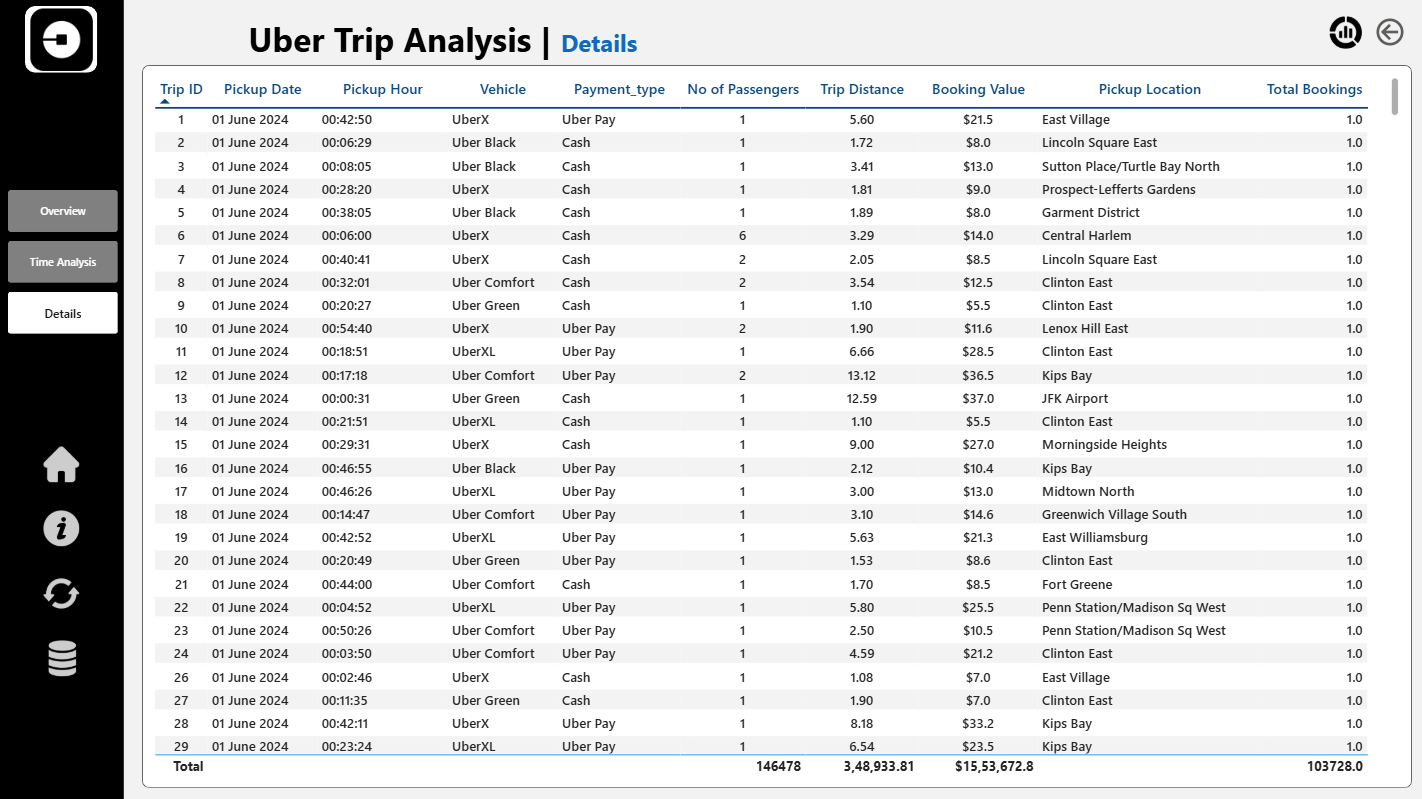

The page's visual inventory and layout, read from the dashboard file:
{"tool":"powerbi","page":{"name":"Details","canvas":[1600,900],"ordinal":2},"visuals":[{"type":"shape","box":[161.2,73.9,1421.6,809.3],"z":0},{"type":"shape","box":[0,0,141.4,899.6],"z":1000},{"type":"textbox","box":[275.4,14.6,632.5,73.9],"z":2000},{"type":"tableEx","fields":{"Values":["Trip Details.Trip ID","Trip Details.Pickup Date","Trip Details.Pickup Hour (HH MM SS)","Trip Details.Vehicle","Trip Details.Payment_type","Sum(Trip Details.passenger_count)","Calculation Table.Total Trip Distance Numeric","Calculation Table.Total Booking Value","Location Table.Location","Calculation Table.Total Bookings"]},"box":[170.1,82.8,1402.6,791.4],"z":3000},{"type":"actionButton","box":[1538.1,16.8,44.8,40.3],"z":4000},{"type":"image","box":[1478.8,14.3,59.9,45.6],"z":5000},{"type":"shape","box":[30.6,7.9,81,74.7],"z":5250,"group":"g1"},{"type":"image","box":[30,6,82,80],"z":5500,"group":"g1"},{"type":"group","id":"g1","title":"logo","box":[30,6,82,80],"z":6000},{"type":"pageNavigator","box":[11,213.2,123,163],"z":7000},{"type":"image","box":[45.7,495.9,49.9,49.9],"z":8000},{"type":"image","box":[46.4,632.5,49.8,65.6],"z":9000},{"type":"image","box":[47.5,712.9,49.8,49.8],"z":10000},{"type":"group","id":"g2","title":"Group 1","box":[45.7,568,51.3,51.3],"z":11000},{"type":"image","box":[45.7,568,49.9,49.9],"z":31500,"group":"g2"},{"type":"card","fields":{"Values":["Calculation Table.Blank"]},"box":[45.7,568,51.3,51.3],"z":38500,"group":"g2"}]}

Visuals, with their boxes on the page's 1600x900 design canvas (x1, y1, x2, y2). These are canvas units, not pixel positions in the 1422x799 screenshot, which may show the page scaled, cropped or inside an application window:
shape: 161:74:1583:883
shape: 0:0:141:900
textbox: 275:15:908:88
tableEx - Trip Details.Trip ID x Trip Details.Pickup Date: 170:83:1573:874
actionButton: 1538:17:1583:57
image: 1479:14:1539:60
shape: 31:8:112:83
image: 30:6:112:86
"logo" group: 30:6:112:86
pageNavigator: 11:213:134:376
image: 46:496:96:546
image: 46:632:96:698
image: 48:713:97:763
"Group 1" group: 46:568:97:619
image: 46:568:96:618
card - Calculation Table.Blank: 46:568:97:619
